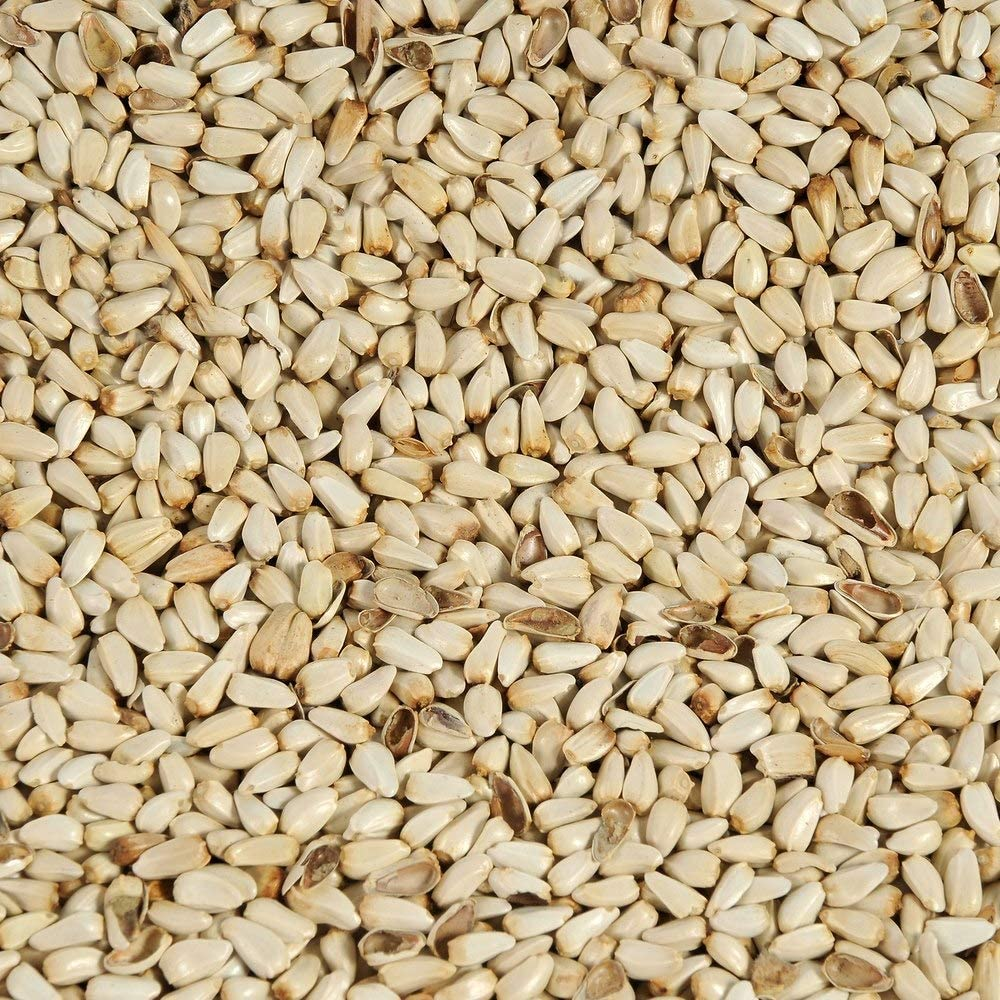seed: (4, 8, 1000, 996)
